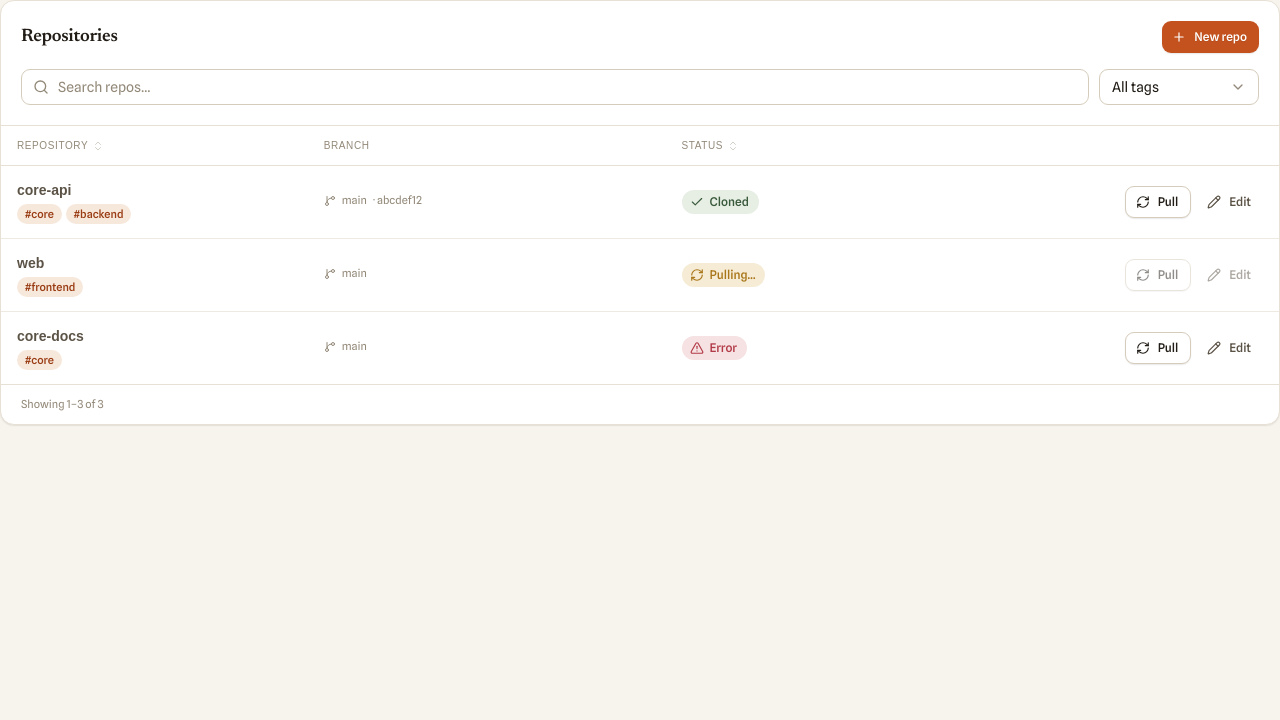
Test case: WorkspaceClient filter island (Flow E) › "New repo" reveals the inline clone form at the top of the table
Expected: the field labelled "Clone repo" is not shown
Click the button "New repo": coordinates (1211, 37) [1162,21,1259,53]
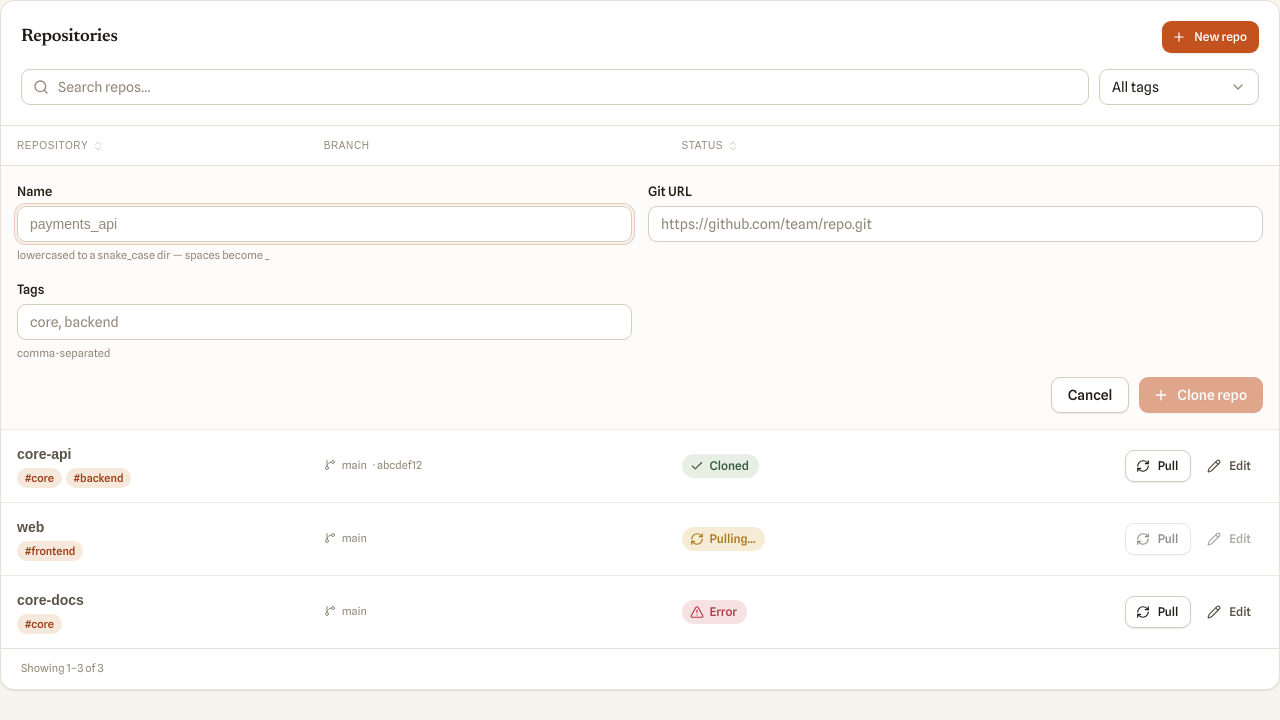
Result: the form named "Clone repo" is shown at [1,166,1279,429]
Result: the button "Clone repo" is shown at [1139,377,1263,413]
